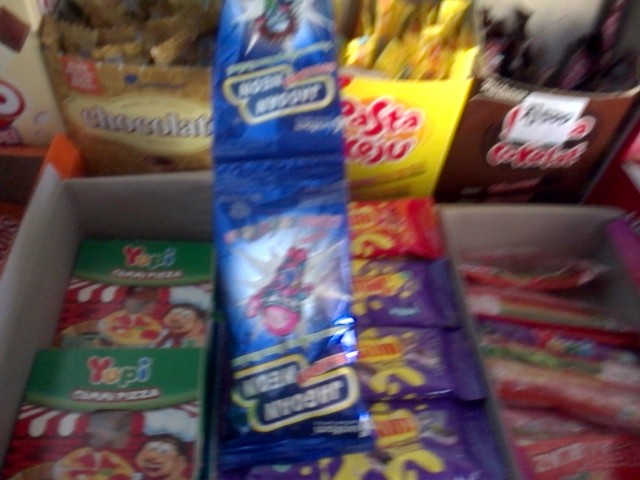jagoan neon: (212, 154, 374, 474), (211, 1, 343, 159)
